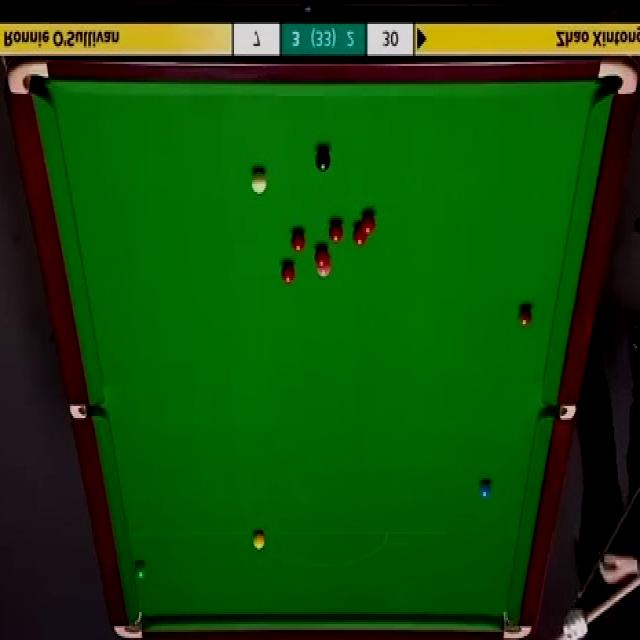pocket: (596, 58, 638, 98), (7, 58, 50, 97), (500, 608, 532, 640), (112, 611, 147, 640), (540, 403, 577, 422), (69, 402, 104, 422)
